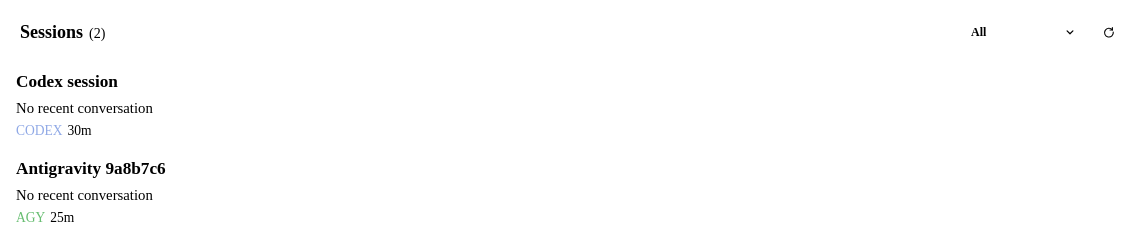
Test case: ExternalSessionsPanel › filters Antigravity sessions with the AGY compact label
Click the button "All".
click(1024, 32)  # box [962, 16, 1086, 48]
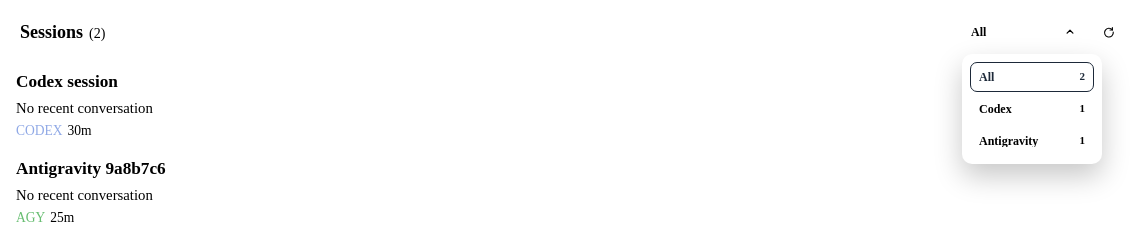
Result: the menu item "Antigravity 1" is shown
Click the menu item "Antigravity 1".
click(1032, 141)  # box [970, 126, 1094, 156]
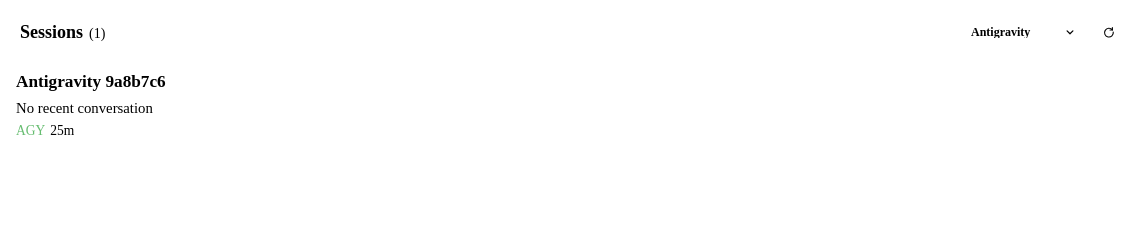
Expected: the text "AGY" is shown, [16, 123, 45, 139]
Result: the text "Codex session" is gone
